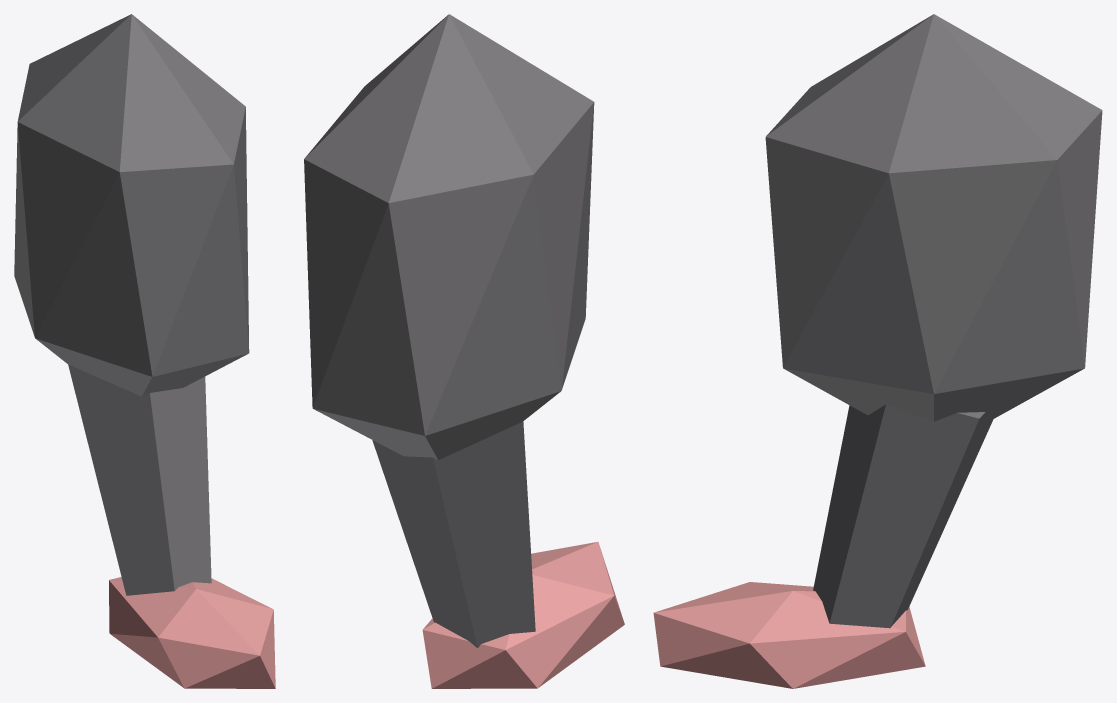
File: rat_1_leg_br.glb
3 renders of one model, left to right at view 1: azimuth 30°, elevation 25°; view 2: azimuth 150°, elevation 25°; view 3: azimuth 270°, elevation 25°, orthographic. The views are drawn at different scales.
Parts seen in each view (by area): view 1: rat_1_leg_br; view 2: rat_1_leg_br; view 3: rat_1_leg_br.
Boxes of the visible parts, x1,y1,x2,y2 form: rat_1_leg_br: (14,14,275,688); rat_1_leg_br: (304,14,624,688); rat_1_leg_br: (653,14,1102,688).
Bounding box in the file's own units: 0.0606 × 0.182 × 0.1115.
